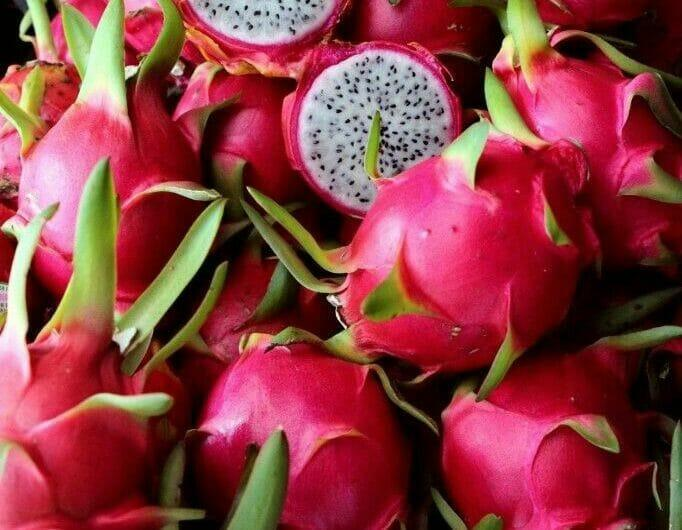dragon-fruit: (343, 137, 586, 378), (191, 330, 419, 530), (490, 54, 682, 281), (16, 94, 207, 319), (433, 340, 655, 530), (0, 324, 194, 530), (279, 37, 464, 222), (176, 253, 343, 400), (171, 61, 294, 215), (356, 0, 506, 92), (0, 57, 82, 211), (33, 0, 167, 83), (171, 0, 352, 55)
